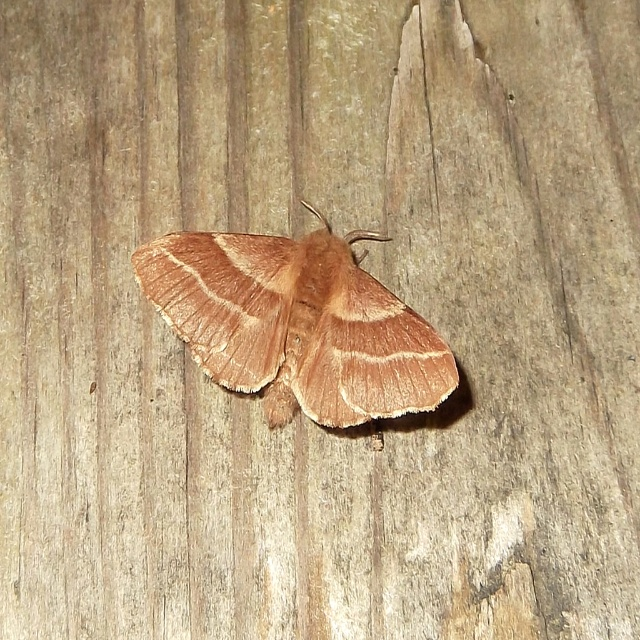Butterfly: (121, 197, 472, 439)
